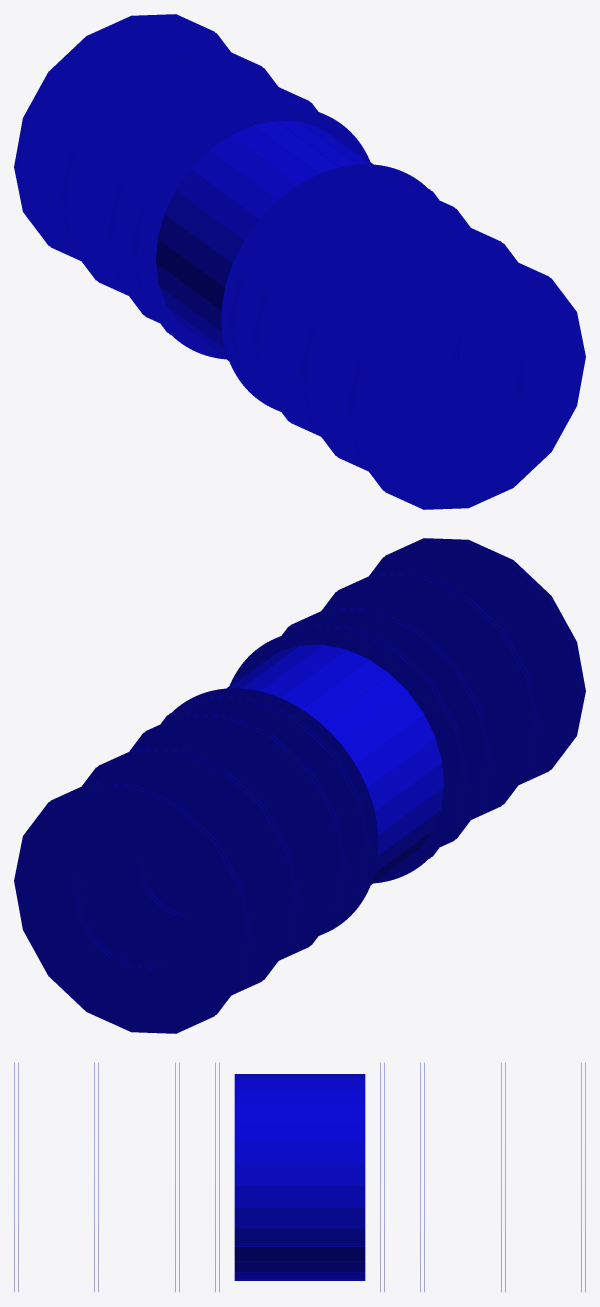
File: Vertex.gltf
3 views of the same model, one above another, from view 1: azimuth 30°, elevation 25°; view 2: azimuth 150°, elevation 25°; view 3: azimuth 270°, elevation 25° (orthographic). The views are drawn at different scales.
Visible parts, largest first — view 1: Vertex; view 2: Vertex; view 3: Vertex.
Boxes of the visible parts, x1,y1,x2,y2 form: Vertex: (14, 14, 585, 509); Vertex: (14, 538, 585, 1033); Vertex: (14, 1063, 585, 1291).
Bounding box in the file's own units: 229 × 229 × 569.
